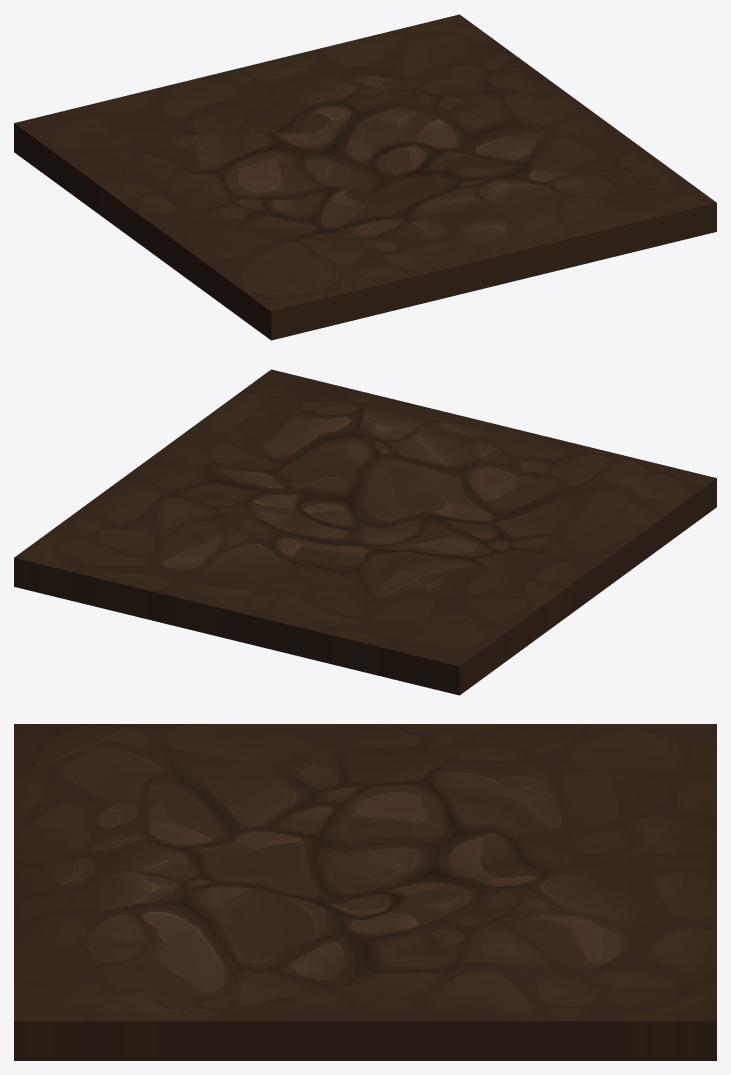
Rendered from Floor_cave001.fbx.
The picture shows the model from 3 angles, top to bottom: view 1: azimuth 30°, elevation 25°; view 2: azimuth 150°, elevation 25°; view 3: azimuth 270°, elevation 25°; orthographic projection. The views are drawn at different scales.
Visible parts, largest first — view 1: Floor_cave001; view 2: Floor_cave001; view 3: Floor_cave001.
Part boxes in pixels (x1,y1,x2,y2): Floor_cave001: [14, 14, 716, 340]; Floor_cave001: [14, 369, 716, 695]; Floor_cave001: [14, 724, 716, 1060].
Bounding box in the file's own units: 803 × 88.76 × 803.
